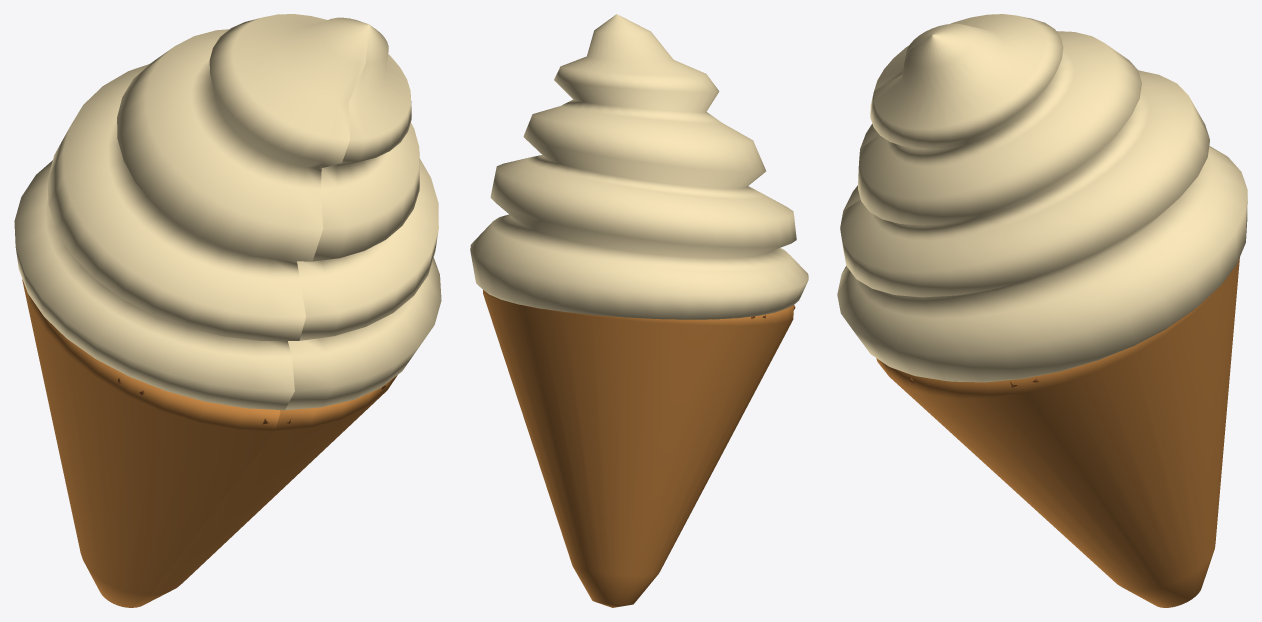
The model's file is icecream.glb.
The picture shows the model from 3 angles, left to right: view 1: azimuth 30°, elevation 25°; view 2: azimuth 150°, elevation 25°; view 3: azimuth 270°, elevation 25°; orthographic projection. The views are drawn at different scales.
Parts seen in each view (by area): view 1: icecream; view 2: icecream; view 3: icecream.
Part boxes in pixels (x1,y1,x2,y2): icecream: (14, 14, 441, 607); icecream: (470, 14, 808, 607); icecream: (837, 14, 1247, 607).
Bounding box in the file's own units: 0.5855 × 0.9474 × 0.5657.
